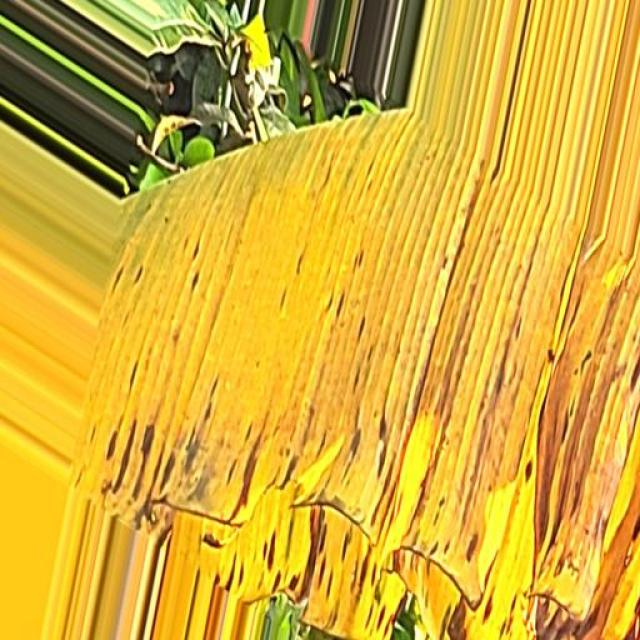Cordana: (74, 114, 640, 636)
